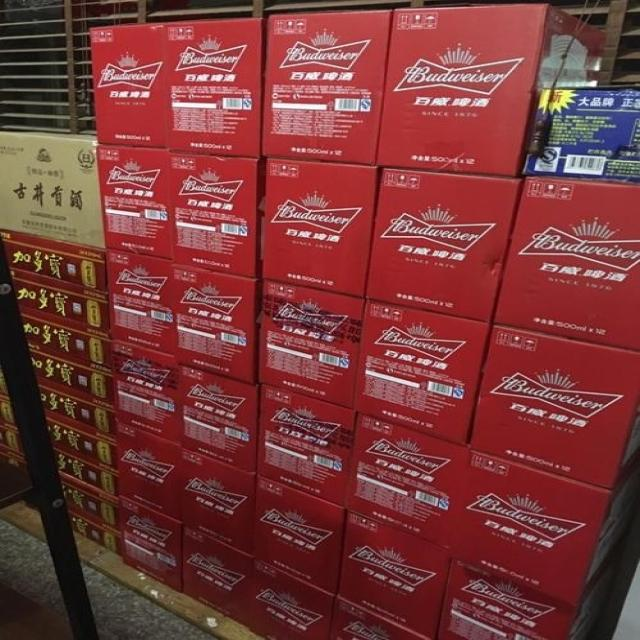box: (374, 5, 613, 178), (461, 325, 639, 495), (444, 443, 612, 614), (486, 176, 638, 352), (364, 167, 524, 326), (86, 17, 265, 158), (356, 300, 492, 446), (263, 9, 390, 164), (258, 156, 378, 300), (348, 413, 467, 549), (257, 277, 364, 416), (342, 507, 453, 639), (254, 382, 358, 509), (1, 129, 107, 248), (439, 553, 583, 639), (518, 87, 639, 184), (255, 475, 349, 598), (170, 155, 262, 278), (172, 263, 261, 389), (94, 143, 178, 263), (176, 363, 260, 475), (181, 445, 255, 565), (104, 247, 178, 366), (235, 559, 341, 639), (178, 522, 259, 622), (0, 238, 109, 304), (17, 312, 119, 381), (117, 420, 184, 521), (25, 352, 121, 421), (8, 282, 113, 344), (116, 347, 182, 443), (121, 494, 182, 591), (34, 386, 121, 454), (54, 477, 130, 542), (45, 420, 123, 479), (51, 446, 124, 509), (322, 600, 436, 639), (57, 511, 124, 564)
